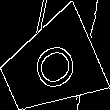O_SW: (21, 36, 79, 97)
